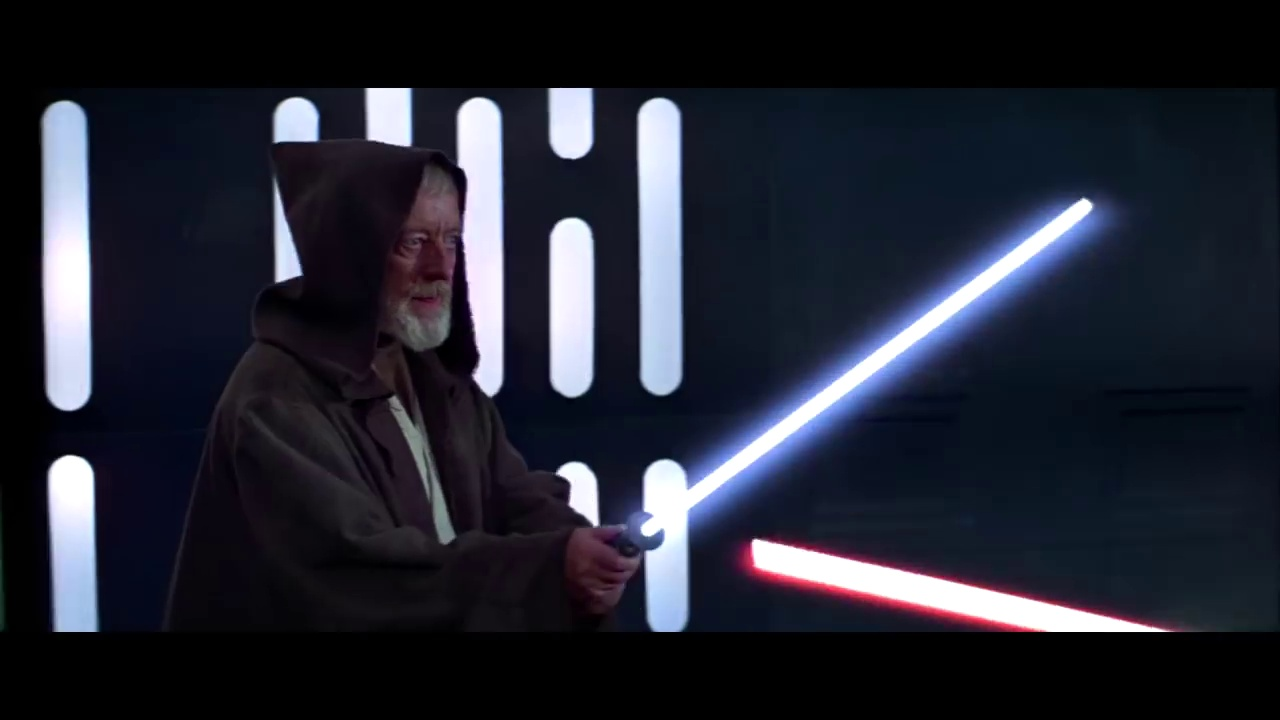lightsaber: (612, 194, 1097, 575)
